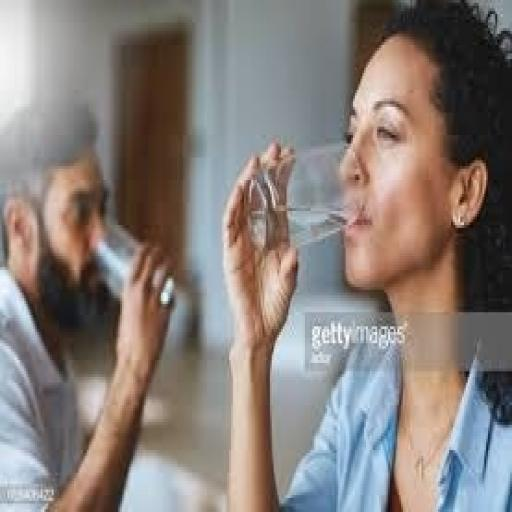drinking: (235, 14, 512, 382), (88, 222, 176, 310)
